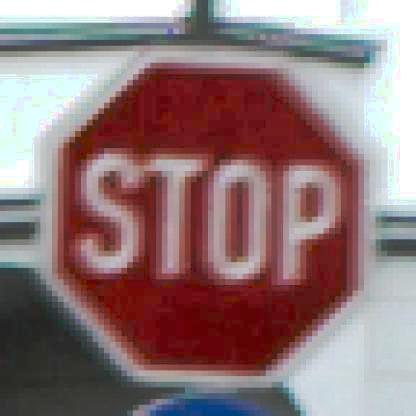Stop Sign: (38, 50, 378, 388)
